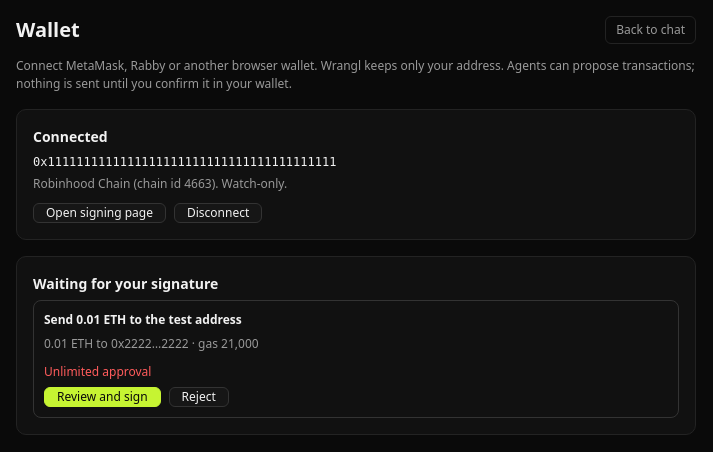
Test: WalletPage › shows the address and the proposals waiting, with their warnings
The image size is (713, 452).
Expected: the text "0x1111111111111111111111111111111111111111" is shown, [33,155,336,169]
Expected: the text "Send 0.01 ETH to the test address" is shown, [44,311,242,328]
What coordinates should you click on to do the following:
click the button "Reject"
I would click on:
 (199, 397)
Its box is [169,387,229,407].
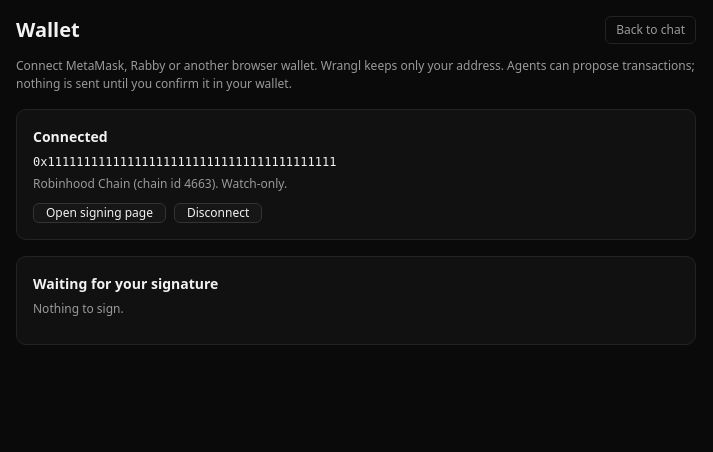
Expected: the text "Nothing to sign." is shown, [33,300,124,317]
